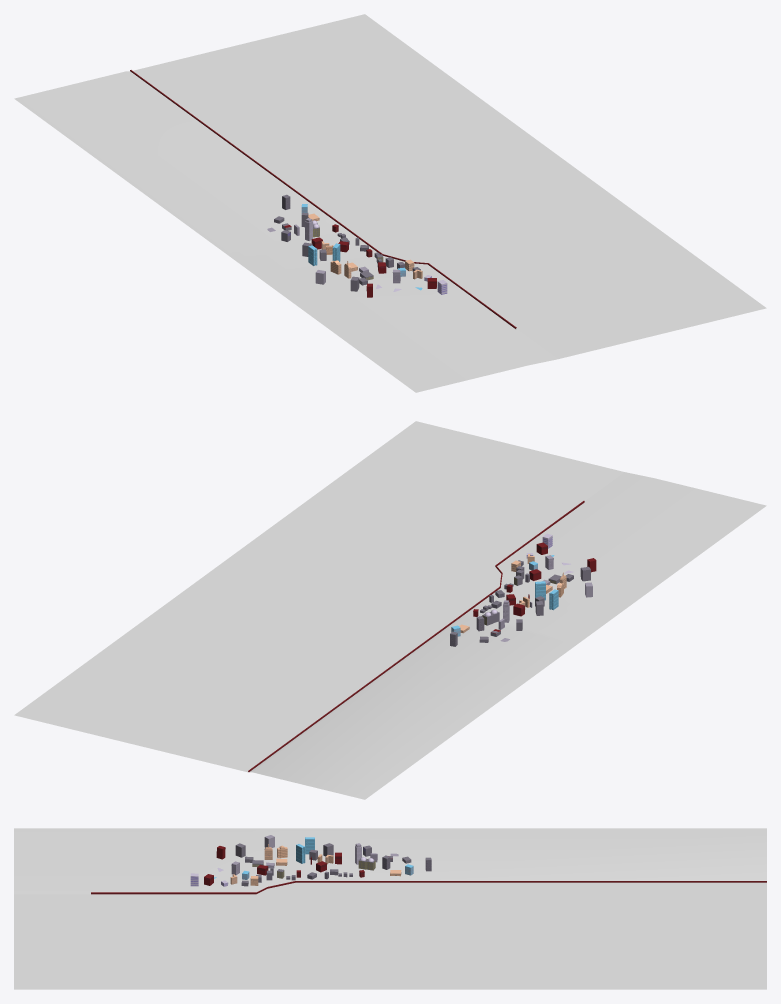
File: Skyline_Mesh.fbx
3 renders of one model, top to bottom at view 1: azimuth 30°, elevation 25°; view 2: azimuth 150°, elevation 25°; view 3: azimuth 270°, elevation 25°, orthographic. The views are drawn at different scales.
Parts seen in each view (by area): view 1: Cube; view 2: Cube; view 3: Cube.
Boxes of the visible parts, x1,y1,x2,y2 form: Cube: [14, 14, 766, 392]; Cube: [14, 421, 766, 799]; Cube: [14, 828, 766, 989].
Size of the model in its own units: 42885 by 5718 by 85045.
3 materials, 1 textured.
